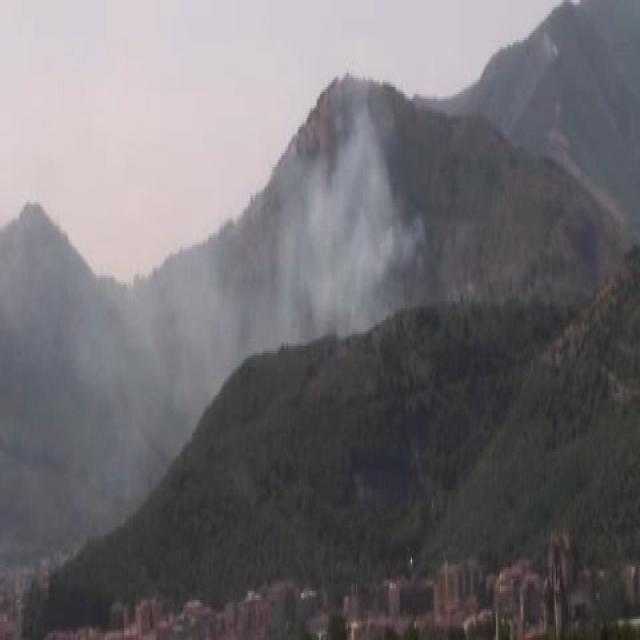smoke: (280, 126, 394, 338), (79, 292, 212, 426)
